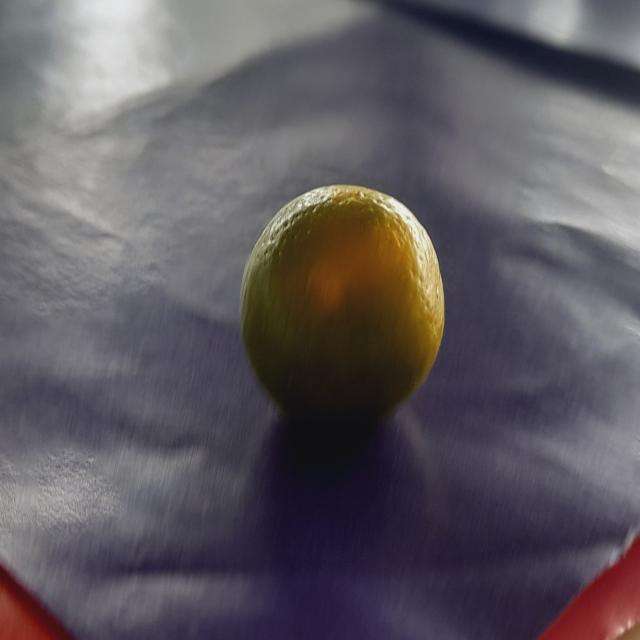greening: (213, 185, 430, 422)
